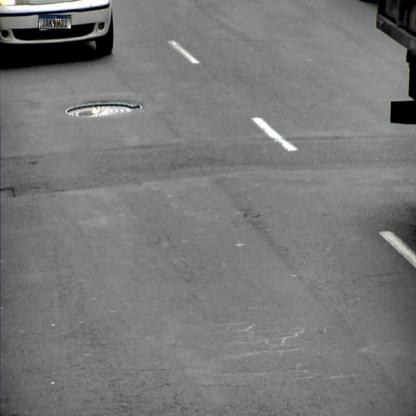PlacaM: (38, 15, 72, 29)
